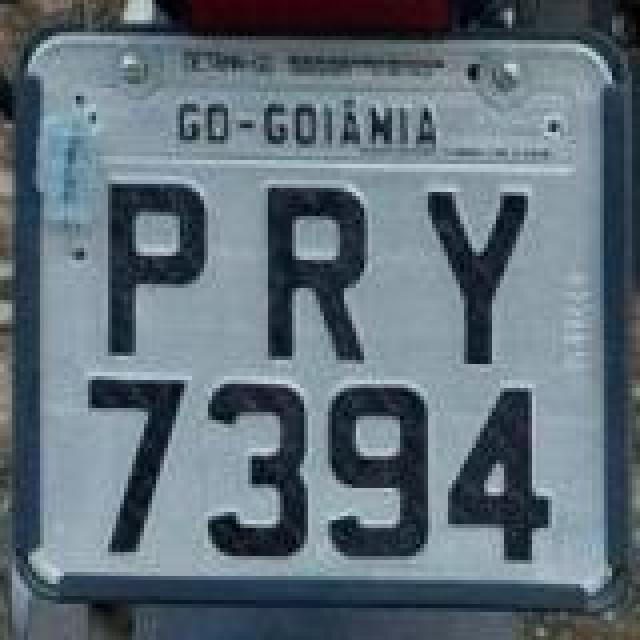3: (202, 380, 310, 564)
4: (446, 386, 554, 566)
7: (86, 372, 186, 556)
9: (326, 382, 434, 562)
P: (104, 178, 208, 358)
R: (266, 178, 374, 366)
Y: (426, 184, 534, 368)
